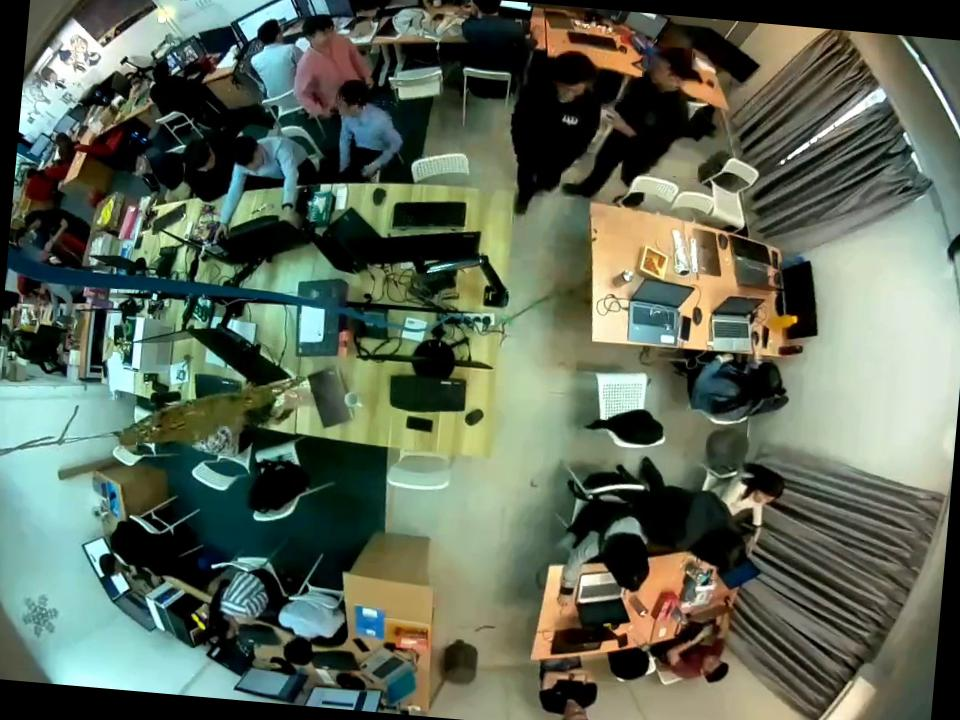employee_tag: (559, 112, 579, 126)
